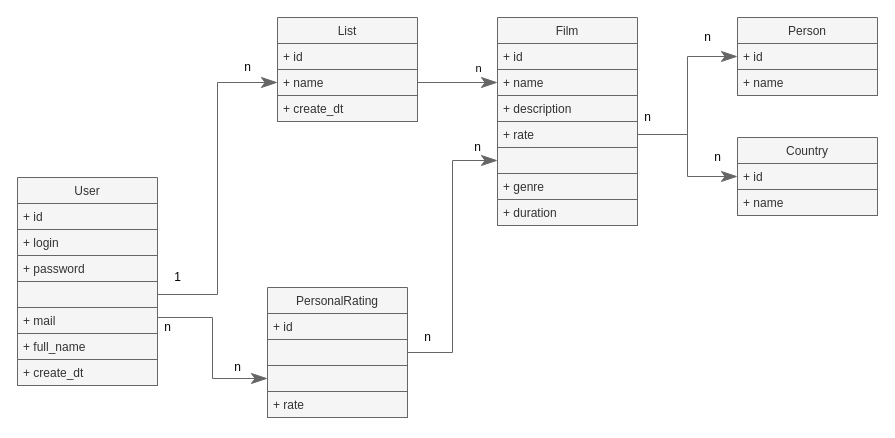
Some shapes in this 895 by 438 pixel diagram are drawn without their labels. The centre of each missing label's shape, as x and y in pixels:
"+ account_id" belongs at point (337, 352).
"+ film_id" belongs at point (337, 378).
"+ release_dt" belongs at point (567, 160).
"+ role" belongs at point (87, 294).
